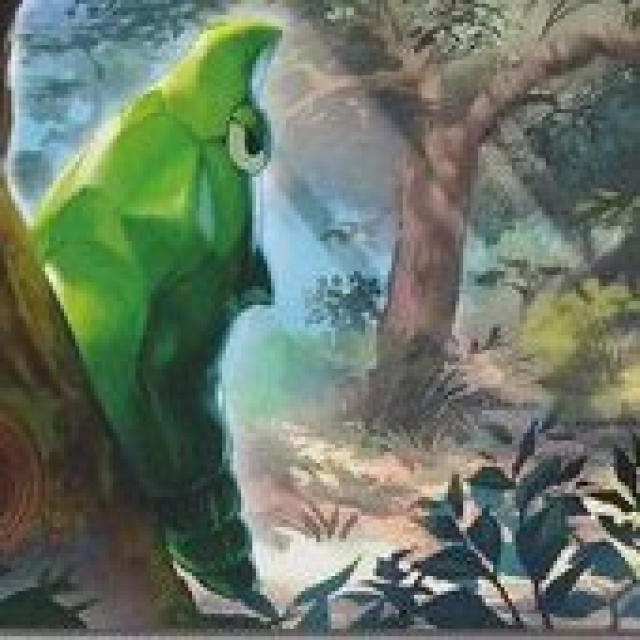Metapod: (39, 2, 284, 586)
